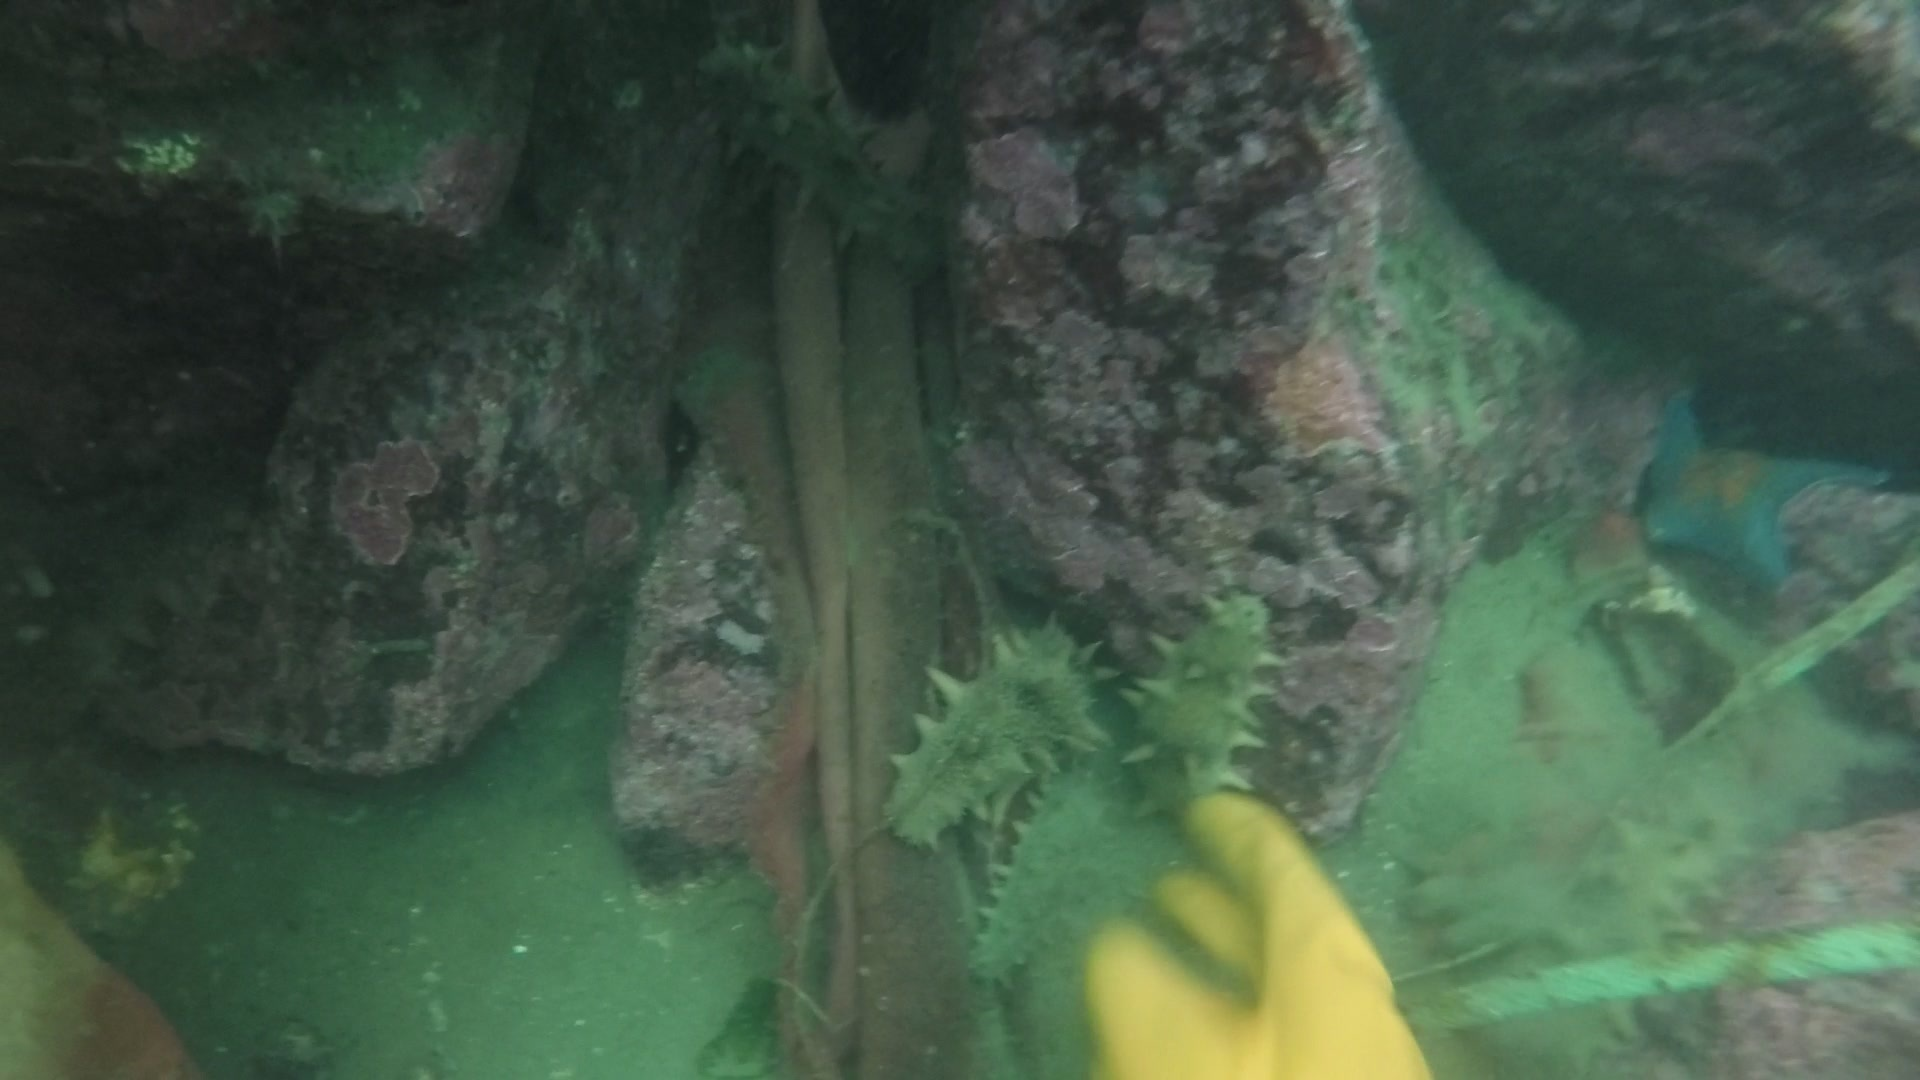holothurian: (1400, 796, 1756, 982), (684, 33, 944, 276), (874, 617, 1117, 858), (1114, 585, 1290, 820), (961, 760, 1135, 993)
starfish: (1626, 385, 1898, 597)
